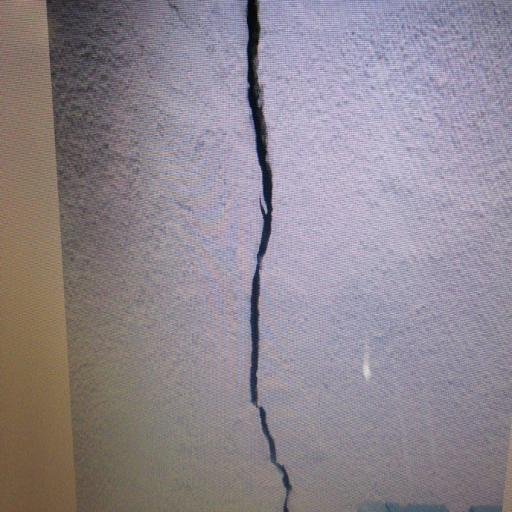spalling: (240, 9, 297, 512)
